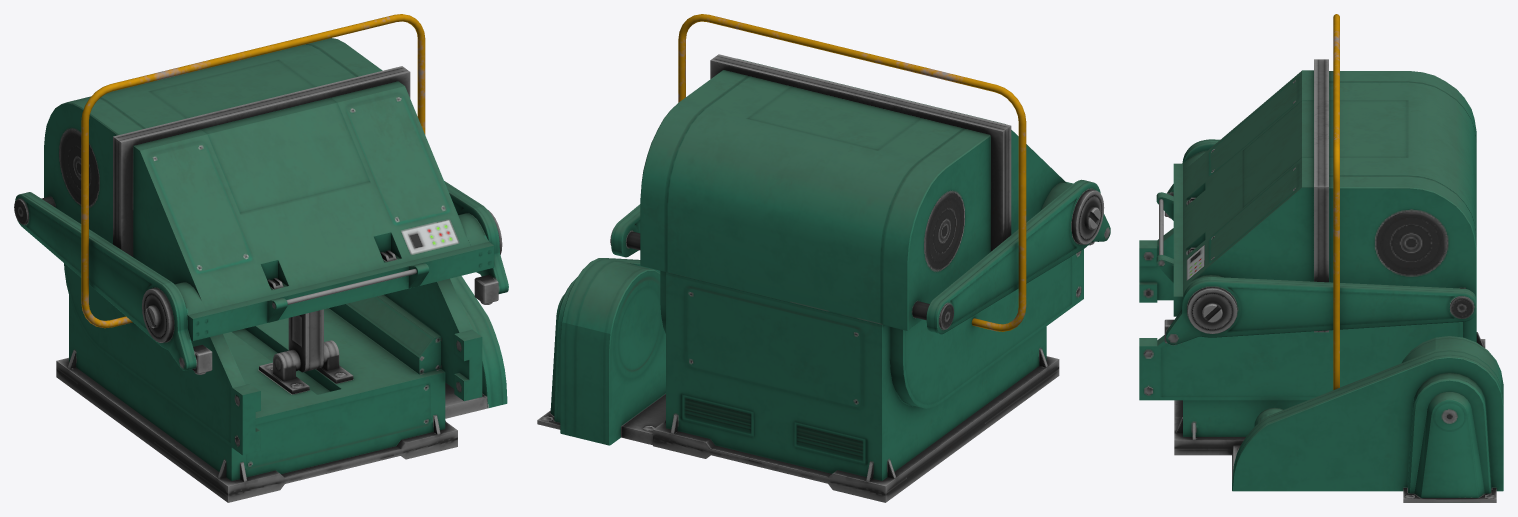
The model's file is machine.glb.
The picture shows the model from 3 angles, left to right: view 1: azimuth 30°, elevation 25°; view 2: azimuth 150°, elevation 25°; view 3: azimuth 270°, elevation 25°; orthographic projection. The views are drawn at different scales.
Parts seen in each view (by area): view 1: machine_02; view 2: machine_02; view 3: machine_02.
Boxes of the visible parts, left/top/right/bottom form: machine_02: left=14, top=14, right=508, bottom=502; machine_02: left=537, top=14, right=1110, bottom=502; machine_02: left=1139, top=14, right=1503, bottom=502.
Bounding box in the file's own units: 1.24 × 1.08 × 1.1.
1 material, 1 textured.
